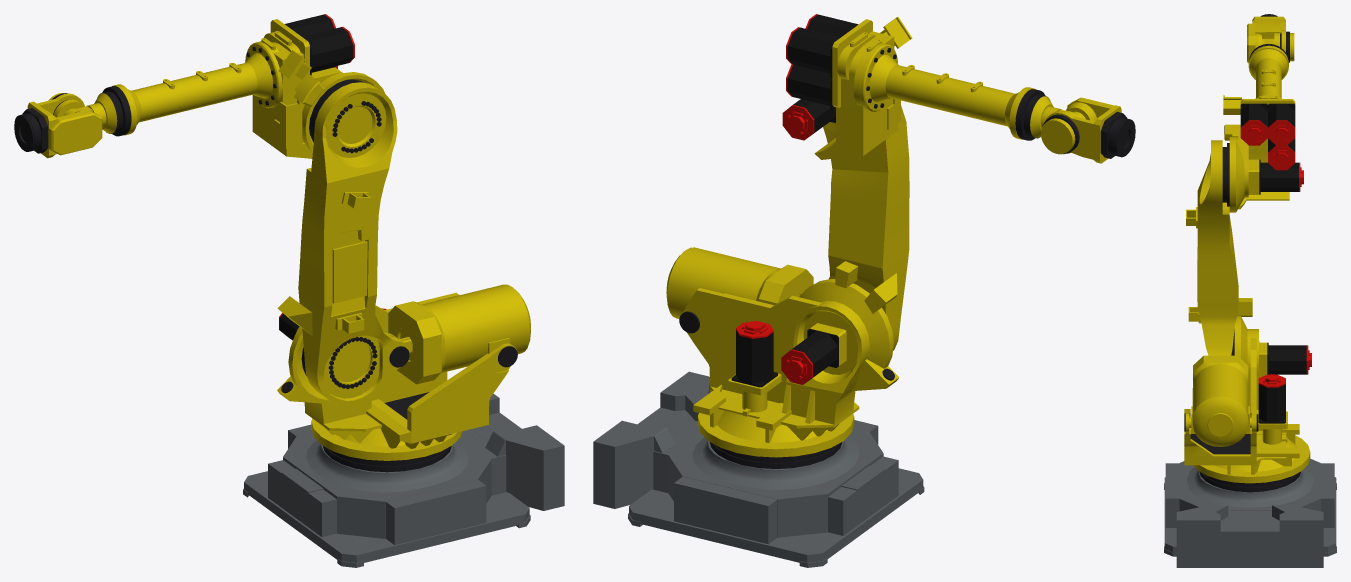
File: RobotTwoArmSegments_Colorfin_2.fbx
The picture shows the model from 3 angles, left to right: view 1: azimuth 30°, elevation 25°; view 2: azimuth 150°, elevation 25°; view 3: azimuth 270°, elevation 25°; orthographic projection. The views are drawn at different scales.
Visible parts, largest first — view 1: BaseBottom, Body, BaseTop, ArmElbow, Hydraulic, Hand, Neck; view 2: BaseBottom, BaseTop, ArmElbow, Body, Hydraulic, Hand, Neck; view 3: BaseBottom, BaseTop, ArmElbow, Body, Hydraulic, Hand.
Part boxes in pixels (left/top/right/bottom): BaseBottom: left=243, top=393, right=564, bottom=567; Body: left=277, top=82, right=410, bottom=405; BaseTop: left=277, top=292, right=517, bottom=472; ArmElbow: left=102, top=14, right=384, bottom=158; Hydraulic: left=388, top=284, right=530, bottom=384; Hand: left=14, top=93, right=102, bottom=158; Neck: left=63, top=91, right=123, bottom=133; BaseBottom: left=593, top=371, right=924, bottom=567; BaseTop: left=679, top=279, right=899, bottom=468; ArmElbow: left=782, top=14, right=1045, bottom=159; Body: left=823, top=105, right=909, bottom=350; Hydraulic: left=666, top=247, right=813, bottom=318; Hand: left=1041, top=97, right=1135, bottom=163; Neck: left=1023, top=94, right=1085, bottom=138; BaseBottom: left=1164, top=458, right=1336, bottom=567; BaseTop: left=1184, top=316, right=1311, bottom=492; ArmElbow: left=1223, top=44, right=1303, bottom=212; Body: left=1186, top=140, right=1252, bottom=355; Hydraulic: left=1189, top=355, right=1251, bottom=446; Hand: left=1247, top=14, right=1294, bottom=62.
Bounding box in the file's own units: 16 × 15.49 × 6.27.
